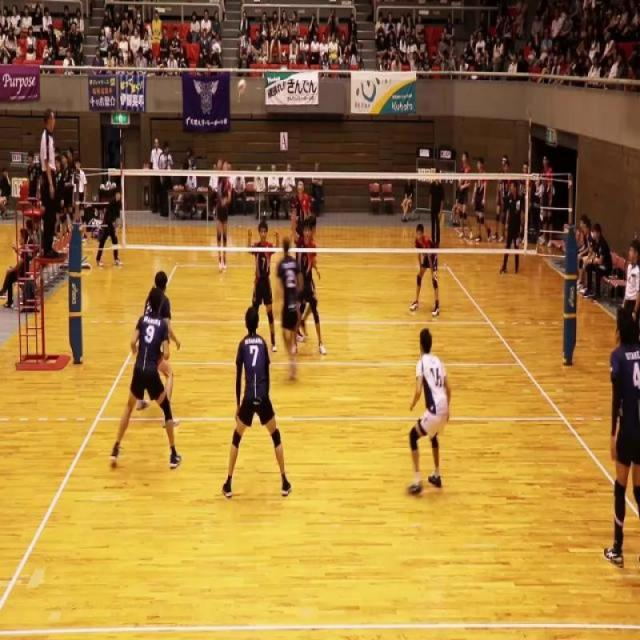volleyball: (237, 78, 246, 94)
